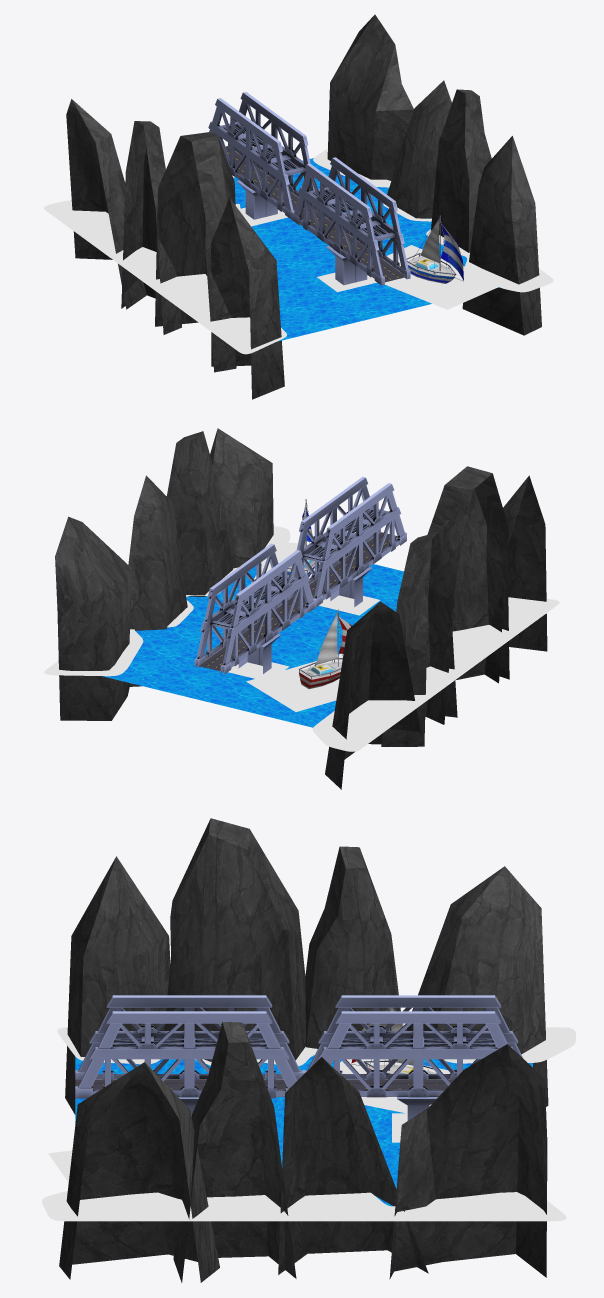
The model's file is Bridge_01.fbx.
The picture shows the model from 3 angles, top to bottom: view 1: azimuth 30°, elevation 25°; view 2: azimuth 150°, elevation 25°; view 3: azimuth 270°, elevation 25°; orthographic projection. The views are drawn at different scales.
Visible parts, largest first — view 1: Bridge_01; view 2: Bridge_01; view 3: Bridge_01.
Part boxes in pixels (bbox=[...]): Bridge_01: bbox=[44, 14, 553, 399]; Bridge_01: bbox=[44, 428, 559, 789]; Bridge_01: bbox=[42, 818, 575, 1282].
Bounding box in the file's own units: 22617 × 13384 × 25170.
